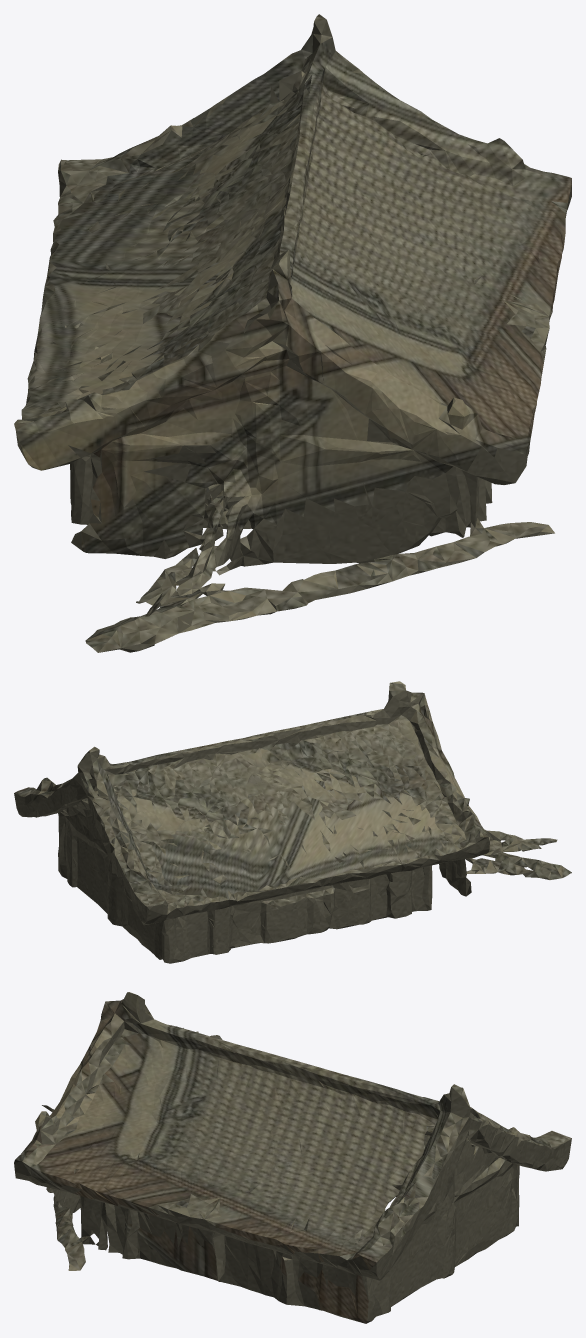
3 views of the same model, one above another, from view 1: azimuth 30°, elevation 25°; view 2: azimuth 150°, elevation 25°; view 3: azimuth 270°, elevation 25° (orthographic). The views are drawn at different scales.
Parts seen in each view (by area): view 1: painted, roof, wall; view 2: roof, wall, painted; view 3: painted, wall, roof.
Boxes of the visible parts, x1,y1,x2,y2 form: painted: (16, 34, 571, 632); roof: (14, 14, 567, 652); wall: (16, 19, 571, 652); roof: (30, 683, 571, 948); wall: (14, 686, 571, 963); painted: (14, 681, 519, 899); painted: (14, 992, 451, 1323); wall: (14, 995, 571, 1323); roof: (22, 1004, 571, 1270).
Bounding box in the file's own units: 9.4 × 3.91 × 9.39.
3 materials, 3 textured.
